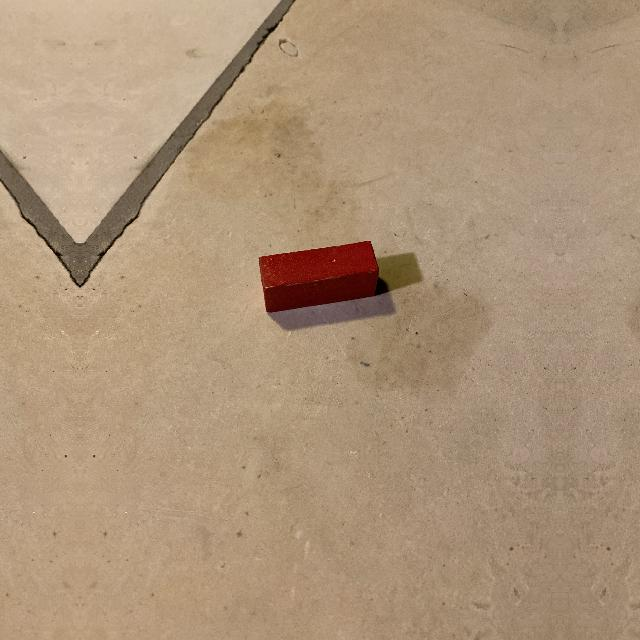red block: (259, 240, 380, 313)
